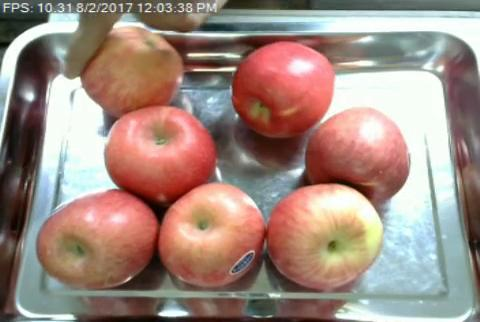apple: (266, 183, 383, 289), (36, 188, 157, 286), (160, 184, 263, 286), (231, 41, 334, 137), (106, 106, 212, 195), (305, 105, 411, 192), (84, 25, 183, 108)
